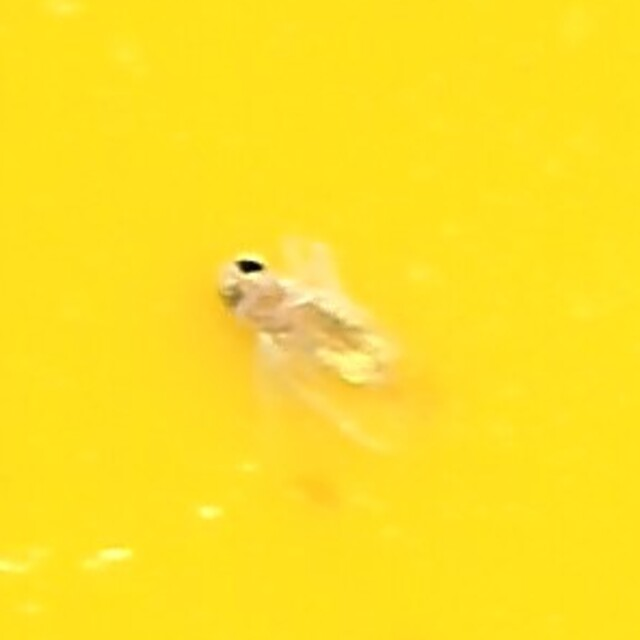Hemiptera: (216, 231, 424, 409)
